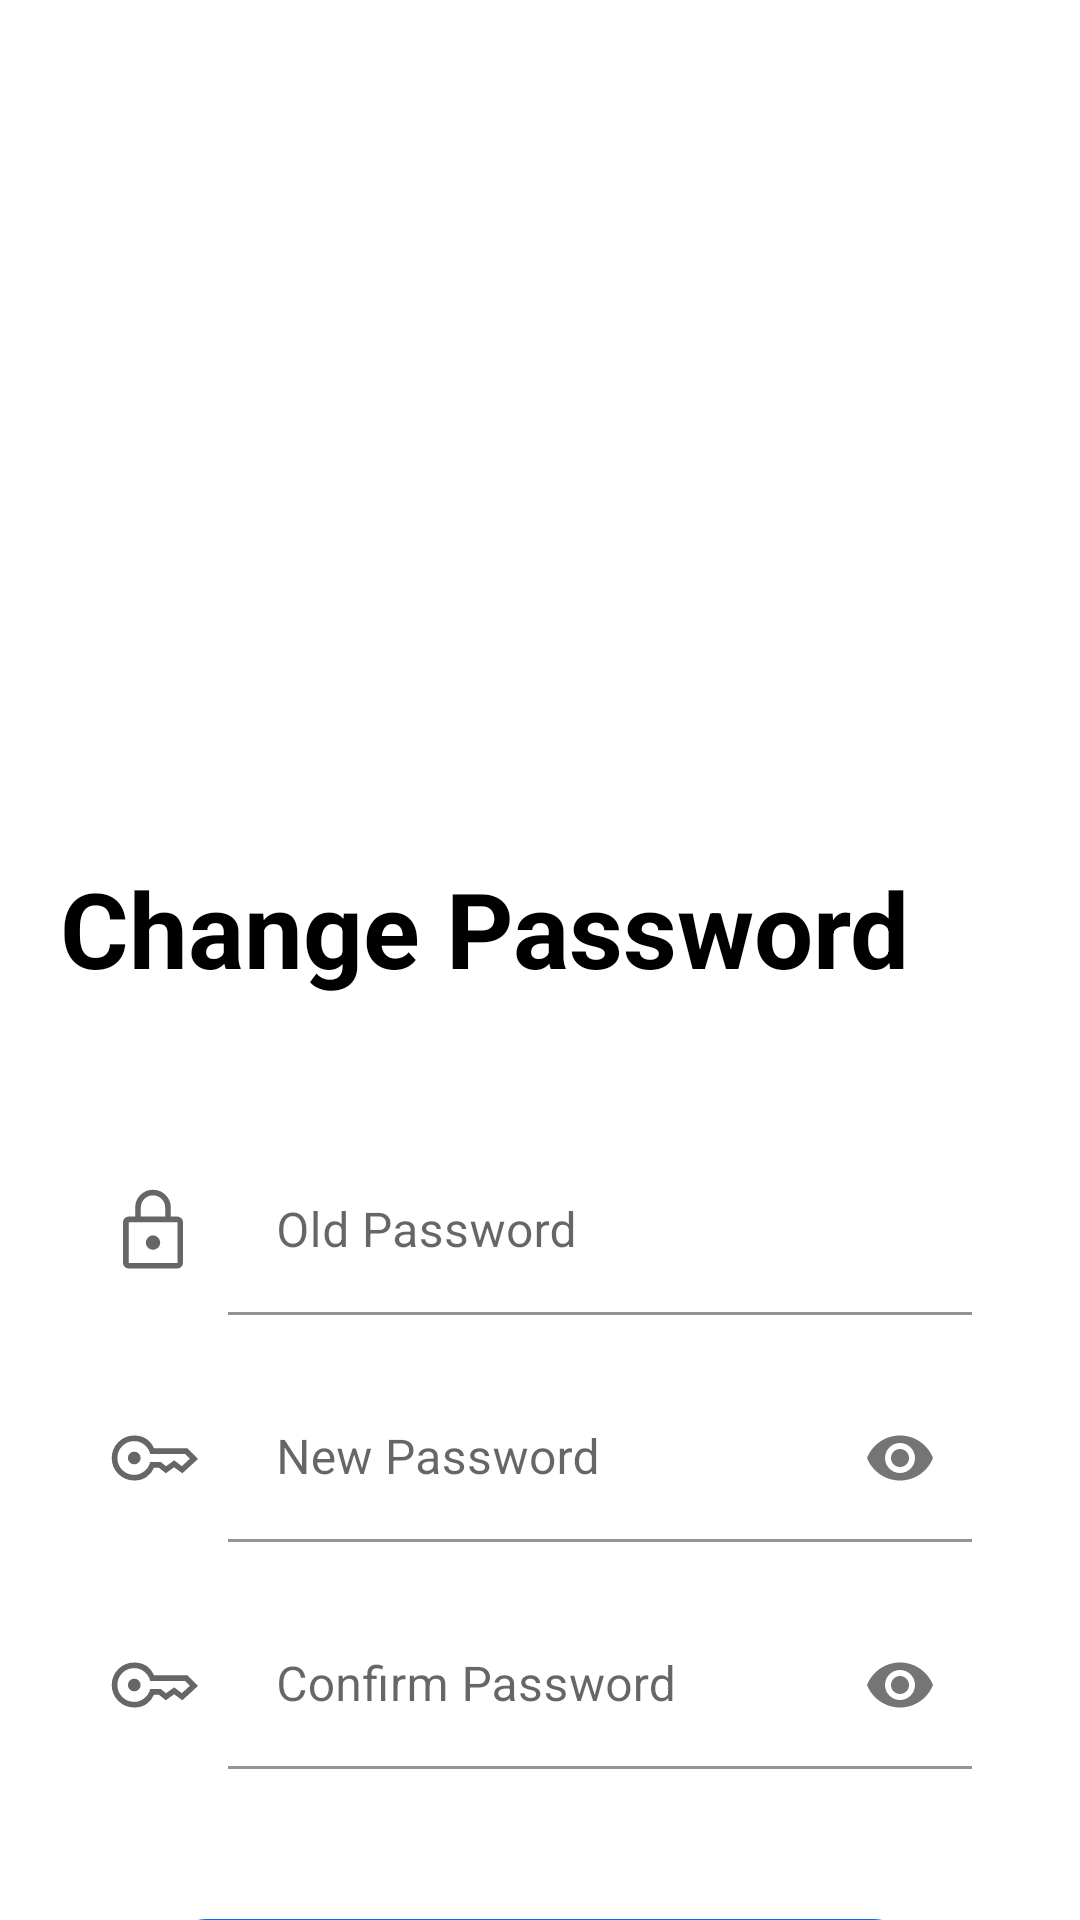

Where to tap for icons on this 1080px x 1920px app screen, as point (x, y):
key: point (154, 1458), point (154, 1685)
lock: point (153, 1229)
